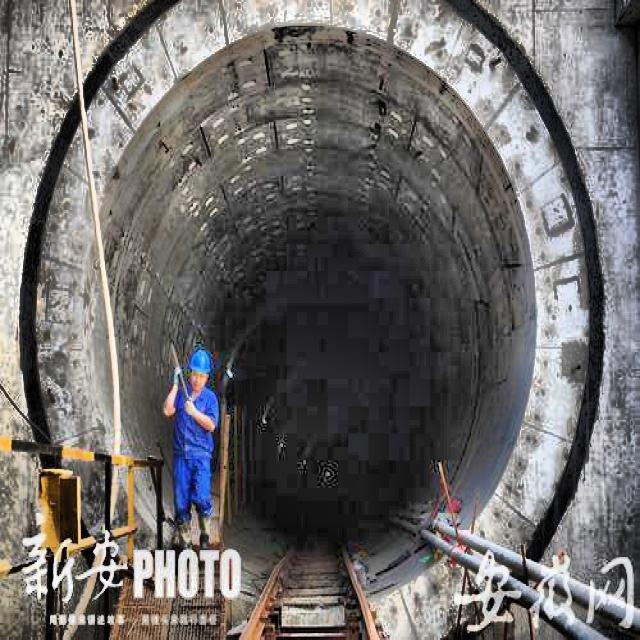helmet: (187, 350, 211, 398)
